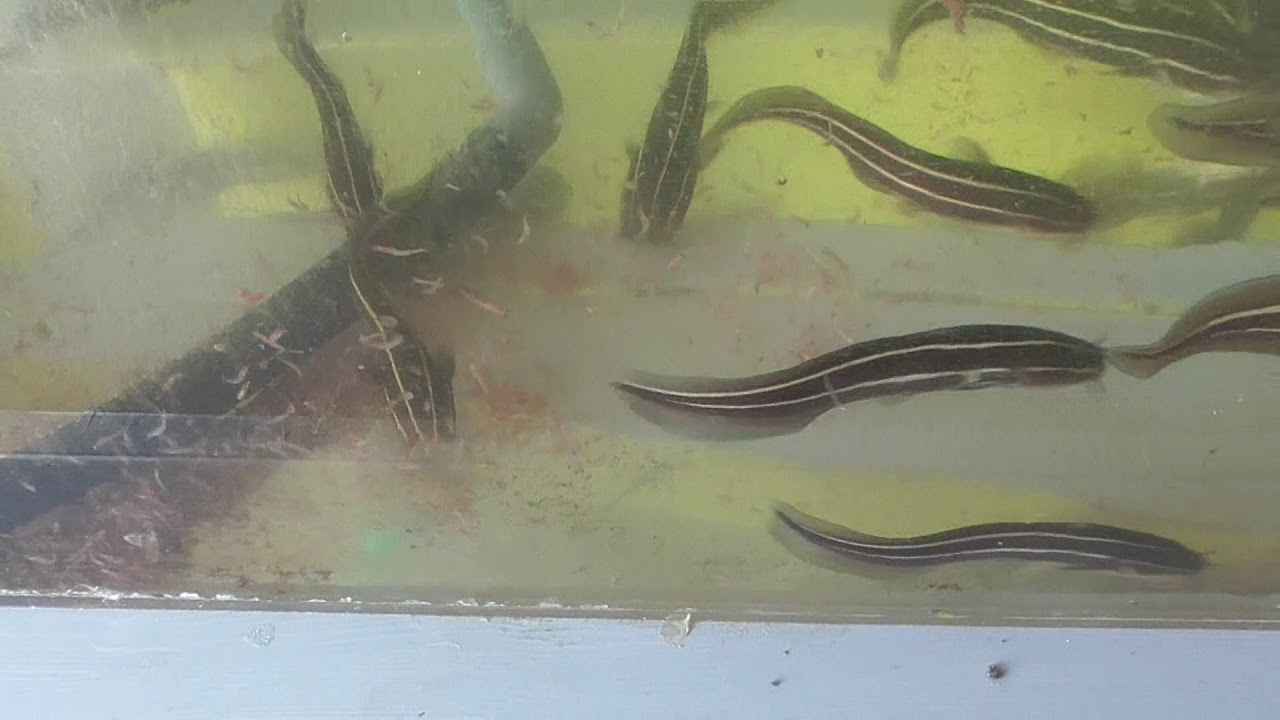gonzui: (270, 1, 491, 444), (693, 66, 1128, 255), (609, 312, 1125, 462), (748, 482, 1221, 599)
